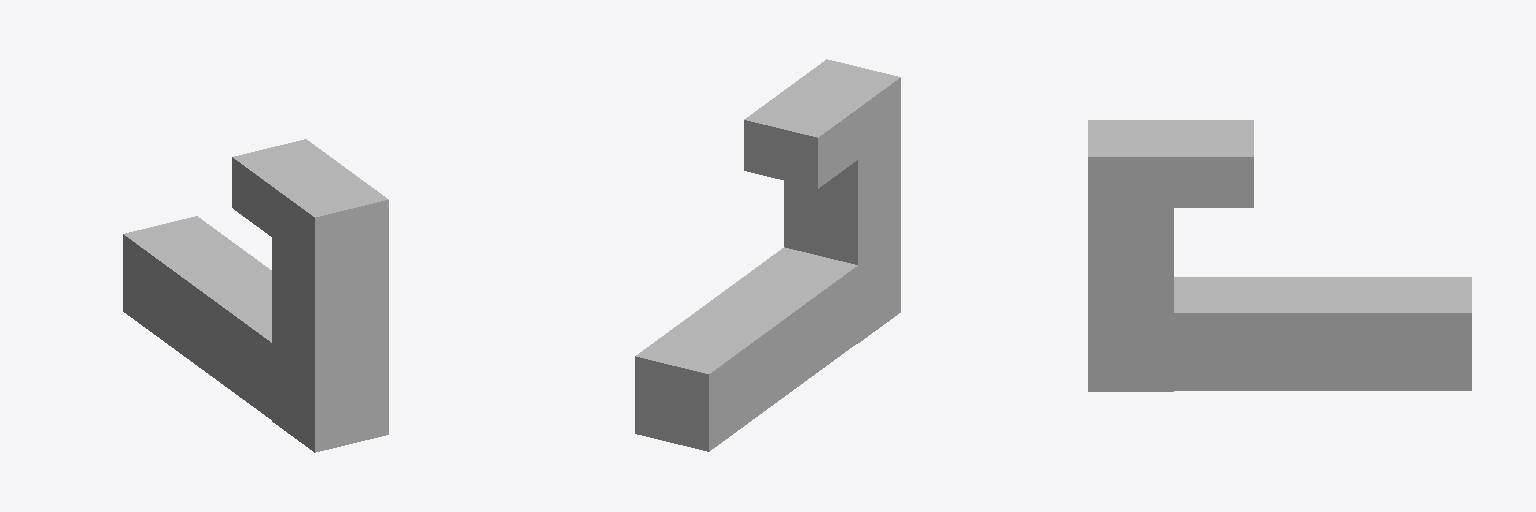
File: bake_test.obj
The picture shows the model from 3 angles: view 1: azimuth 30°, elevation 25°; view 2: azimuth 150°, elevation 25°; view 3: azimuth 270°, elevation 25°; orthographic projection.
Visible parts, largest first — view 1: Cube; view 2: Cube; view 3: Cube.
Part boxes in pixels (left/top/right/bottom): Cube: left=123, top=139, right=388, bottom=452; Cube: left=635, top=59, right=900, bottom=451; Cube: left=1088, top=120, right=1471, bottom=391.
Bounding box in the file's own units: 2 × 6.07 × 8.97.